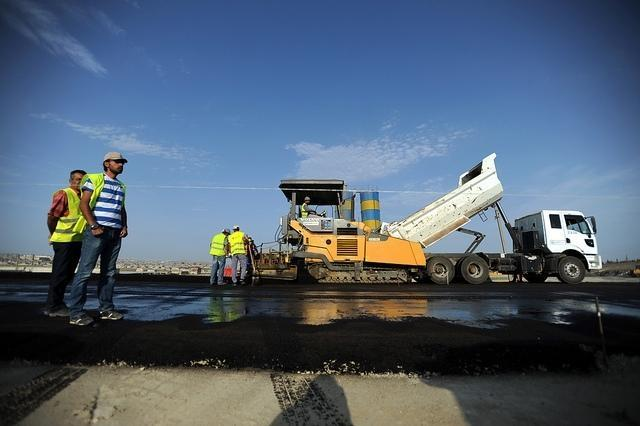truck: (383, 152, 603, 284), (252, 180, 424, 284)
